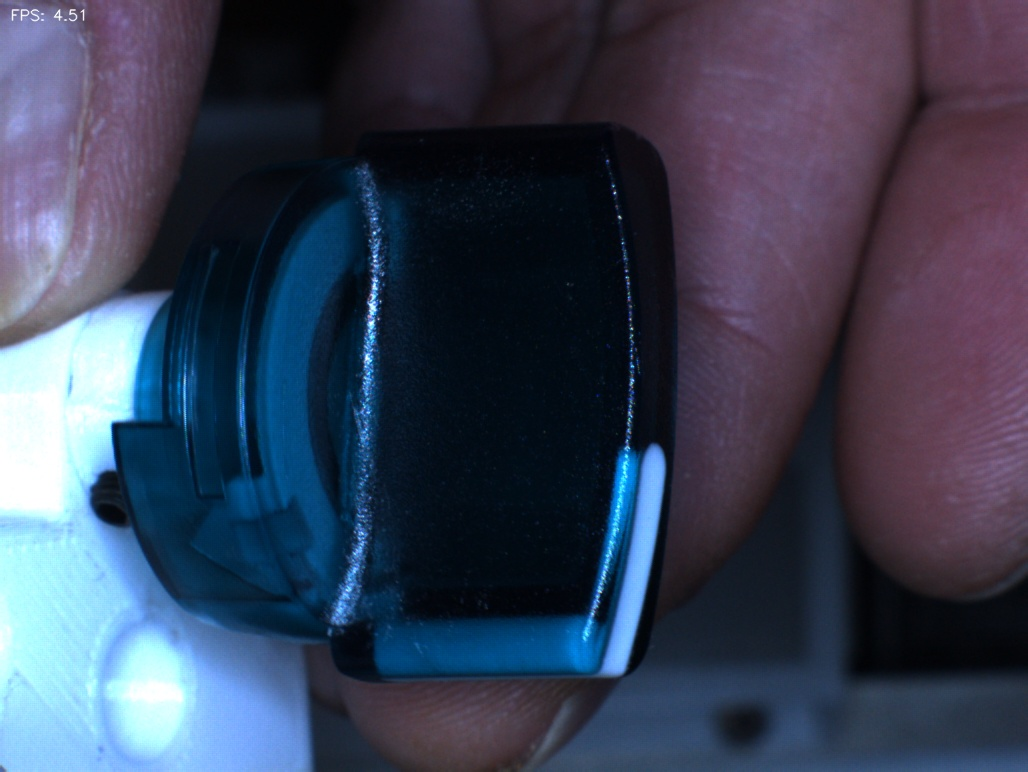Givrage: (352, 469, 415, 651)
